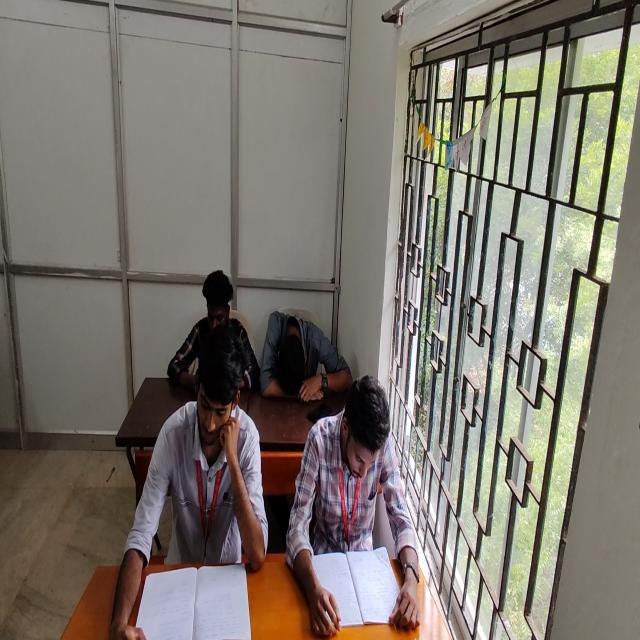reading: (113, 324, 270, 640), (288, 375, 413, 639)
sleeping: (259, 310, 351, 402)
using_mobile: (168, 268, 260, 397)
